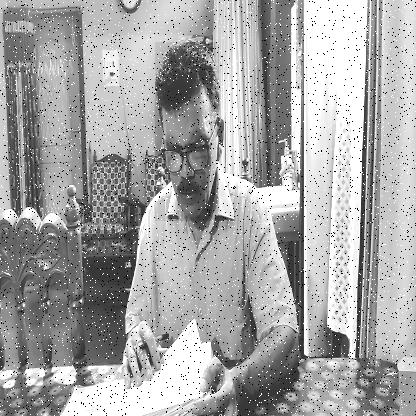Normal: (155, 42, 219, 221)
